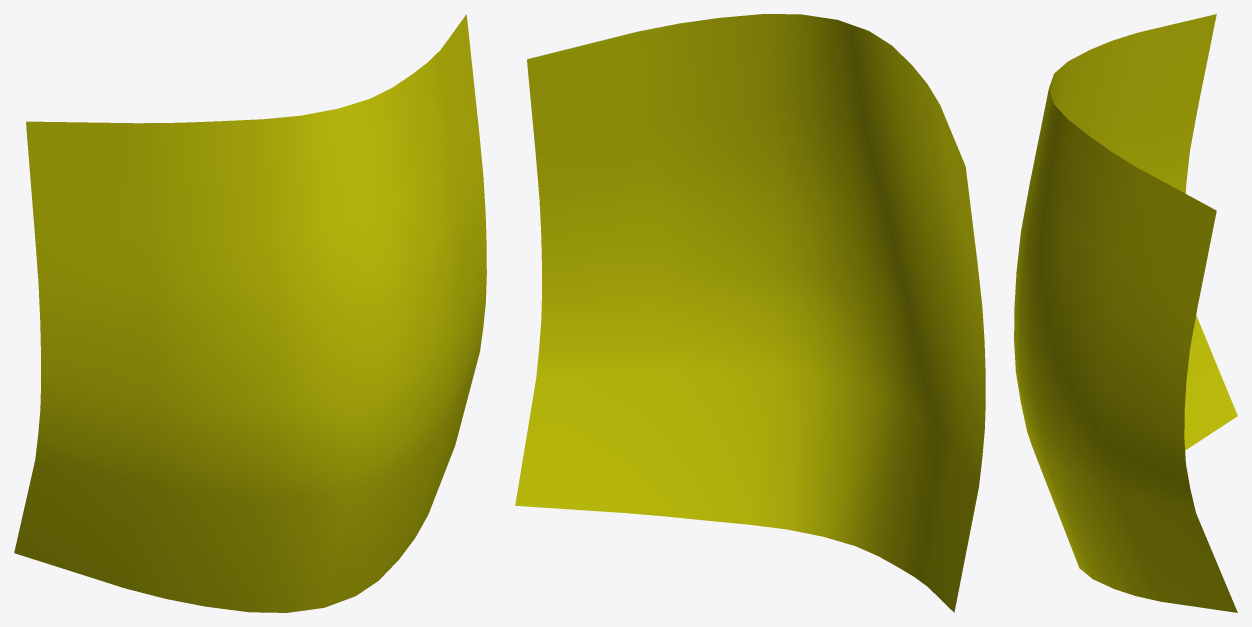
The model's file is Mask_1.glb.
3 views of the same model, side by side, from view 1: azimuth 30°, elevation 25°; view 2: azimuth 150°, elevation 25°; view 3: azimuth 270°, elevation 25° (orthographic). The views are drawn at different scales.
Bounding box in the file's own units: 91.85 × 100 × 43.71.
